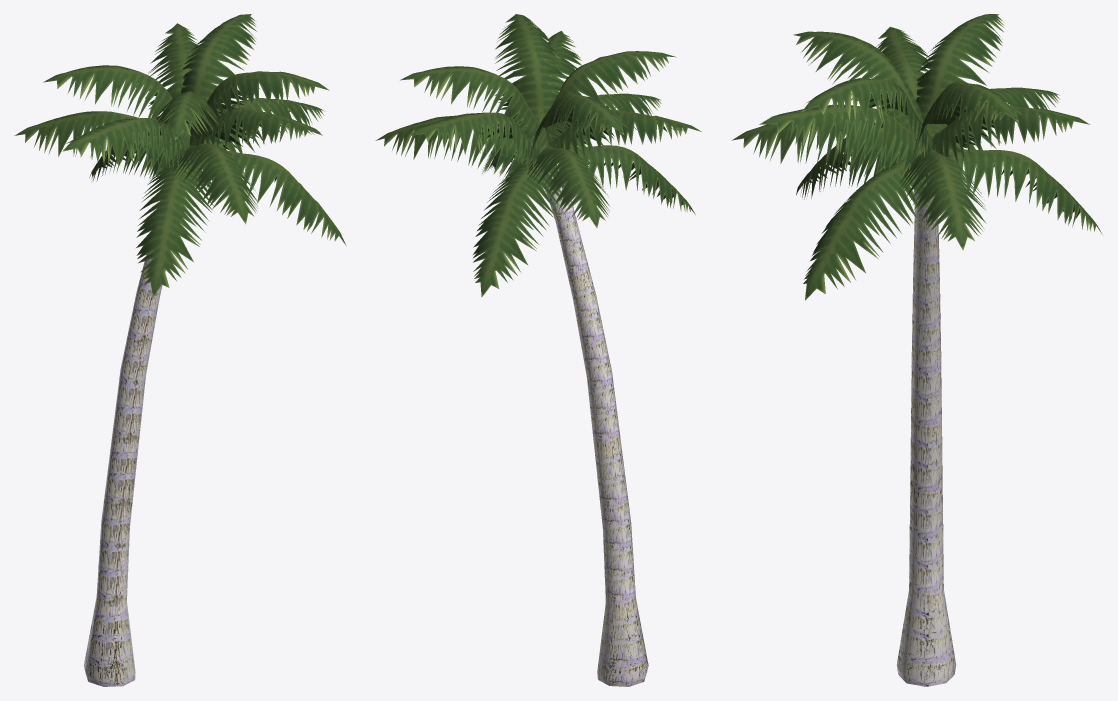
Rendered from tropical_palm.glb.
The picture shows the model from 3 angles, left to right: view 1: azimuth 30°, elevation 25°; view 2: azimuth 150°, elevation 25°; view 3: azimuth 270°, elevation 25°; orthographic projection. The views are drawn at different scales.
Visible parts, largest first — view 1: palm_leaves_w; view 2: palm_leaves_w; view 3: palm_leaves_w.
Part boxes in pixels (left/top/right/bottom): palm_leaves_w: left=14, top=14, right=346, bottom=686; palm_leaves_w: left=375, top=14, right=701, bottom=686; palm_leaves_w: left=731, top=14, right=1102, bottom=686.
Size of the model in its own units: 5.73 by 11 by 5.61.
2 materials, 2 textured.
